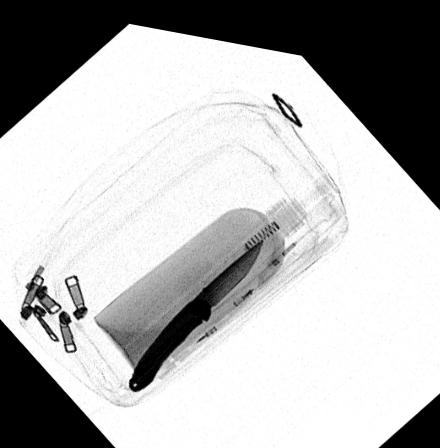Knife: (128, 227, 266, 387)
